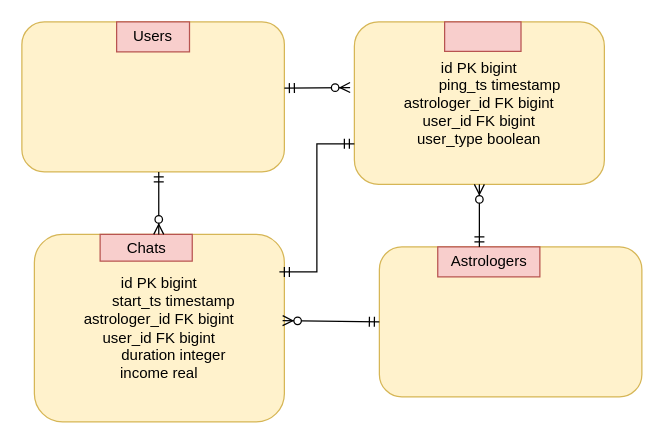
Some shapes in this 664 by 444 pixel diagram are drawn without their labels. Here are the shapes that lost their labels. From the top down, the box of each, then its label:
(443, 21, 521, 51): Pings
(21, 21, 284, 172): id PK bigint name varchar(30) type varchar(30)
(378, 246, 642, 397): id PK bigint name varchar(30) ping_activity boolean
